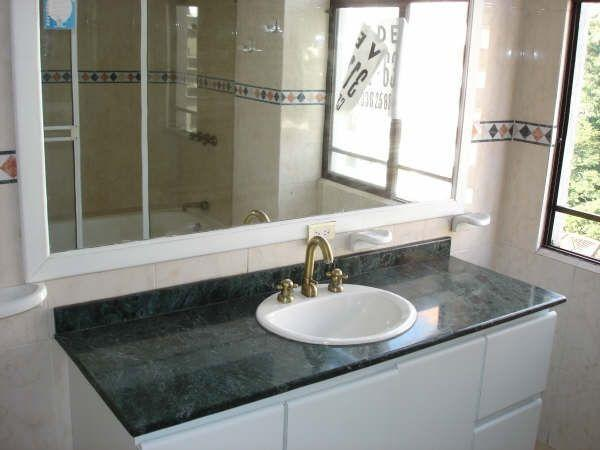Lavamanos: (256, 230, 423, 348)
Ventana: (541, 3, 599, 265)
